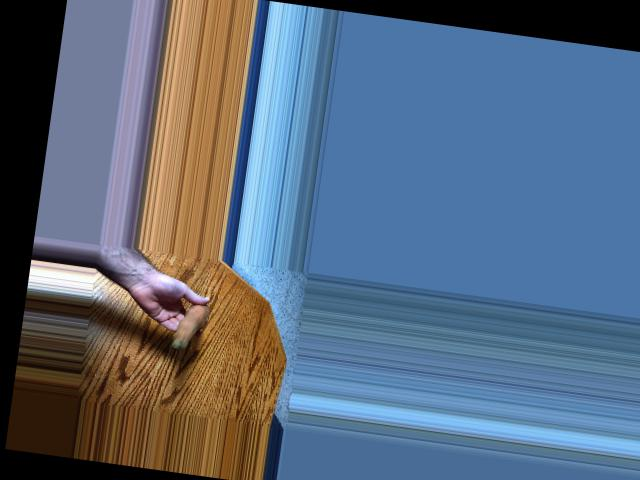sweet_potato: (168, 297, 210, 352)
